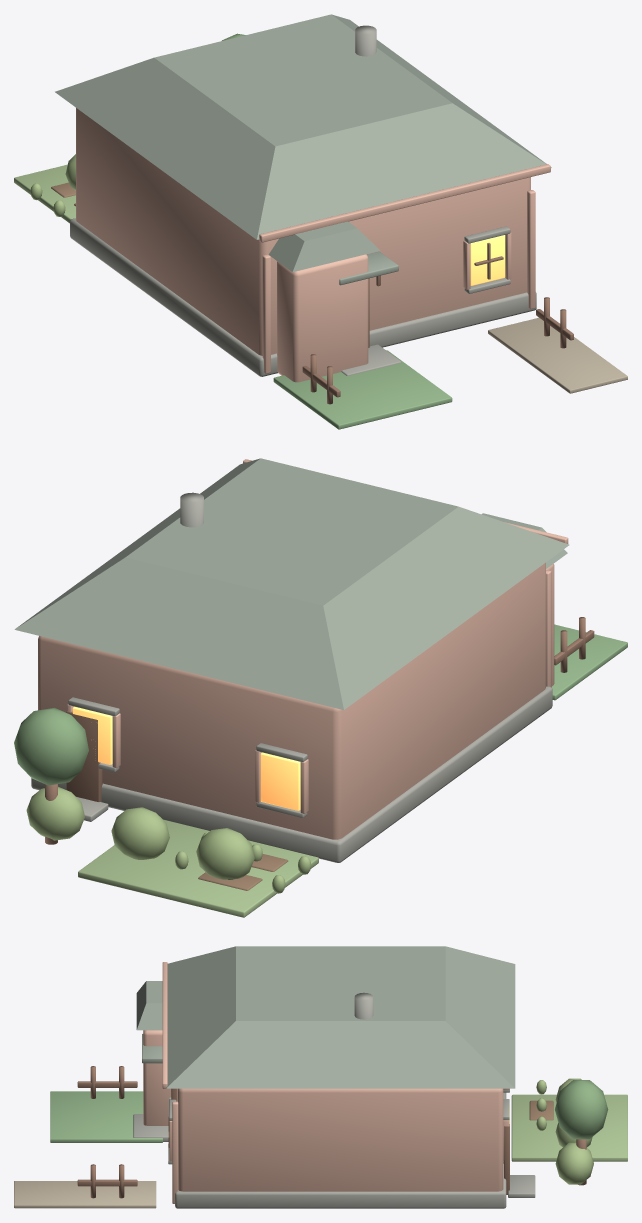
File: coastal_orchard_house_v1.ac9b33396f07.glb
3 renders of one model, top to bottom at view 1: azimuth 30°, elevation 25°; view 2: azimuth 150°, elevation 25°; view 3: azimuth 270°, elevation 25°, orthographic. The views are drawn at different scales.
Parts seen in each view (by area): view 1: MainRoof, MainBody, OrchardBay, StonePlinth, FrontGreenVerge, Driveway, OrchardBayRoof, FrontFascia, RearYardPatch, FrontWindow1, CornerQuoin, CornerQuoin.001 (+3 smaller); view 2: MainRoof, MainBody, StonePlinth, RearYardPatch, YardTreeCrown, FrontGreenVerge, Hedge2, Hedge1, Hedge3, RearWindow1, ServiceDoor, RearWindow2 (+2 smaller); view 3: MainRoof, MainBody, StonePlinth, FrontGreenVerge, RearYardPatch, Driveway, YardTreeCrown, OrchardBay, OrchardBayRoof, Hedge3, FrontFascia, CornerQuoin (+8 smaller).
Boxes of the visible parts, x1,y1,x2,y2 form: MainRoof: (55, 14, 551, 239); MainBody: (76, 108, 530, 355); OrchardBay: (277, 254, 368, 382); StonePlinth: (70, 218, 536, 376); FrontGreenVerge: (273, 350, 452, 429); Driveway: (488, 317, 627, 393); OrchardBayRoof: (268, 221, 380, 272); FrontFascia: (259, 164, 550, 242); RearYardPatch: (14, 164, 75, 223); FrontWindow1: (470, 235, 505, 285); CornerQuoin: (527, 190, 535, 309); CornerQuoin.001: (262, 254, 270, 373); MainRoof: (14, 458, 569, 709); MainBody: (38, 562, 545, 839); StonePlinth: (31, 686, 552, 862); RearYardPatch: (78, 819, 318, 917); YardTreeCrown: (14, 707, 88, 785); FrontGreenVerge: (551, 624, 627, 700); Hedge2: (111, 807, 169, 859); Hedge1: (196, 828, 254, 879); Hedge3: (26, 786, 84, 840); RearWindow1: (260, 752, 300, 810); ServiceDoor: (66, 711, 102, 801); RearWindow2: (72, 706, 112, 764); MainRoof: (166, 946, 515, 1088); MainBody: (178, 1088, 503, 1191); StonePlinth: (175, 1092, 506, 1208); FrontGreenVerge: (50, 1091, 162, 1142); RearYardPatch: (511, 1094, 627, 1161); Driveway: (14, 1181, 156, 1208); YardTreeCrown: (555, 1080, 608, 1139); OrchardBay: (143, 1030, 177, 1125); OrchardBayRoof: (136, 981, 162, 1030); Hedge3: (555, 1142, 593, 1184); FrontFascia: (162, 962, 167, 1088); CornerQuoin: (172, 1101, 178, 1203).
Size of the model in its own units: 8.87 by 6.2 by 18.49.
